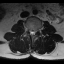CCS_normal: (31, 28, 33, 38)
LFS_normal: (35, 28, 37, 34)
LLS_normal: (33, 28, 35, 36)
RFS_normal: (27, 26, 29, 33)
RLS_normal: (29, 28, 31, 36)
